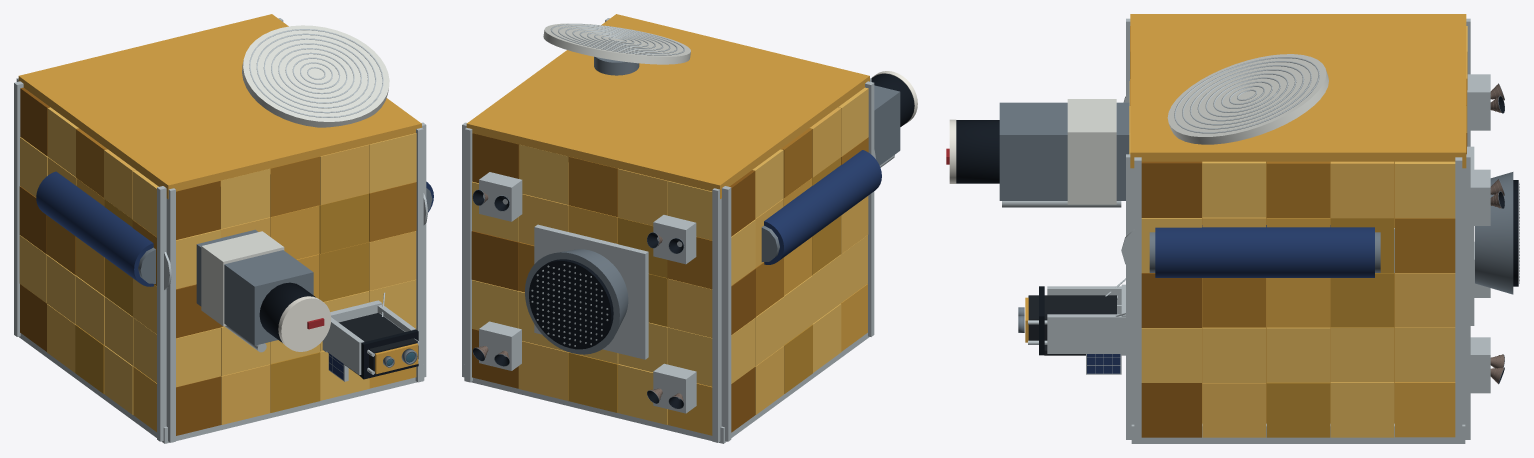
The model's file is dart_impact_probe.glb.
The picture shows the model from 3 angles, left to right: view 1: azimuth 30°, elevation 25°; view 2: azimuth 150°, elevation 25°; view 3: azimuth 270°, elevation 25°; orthographic projection. The views are drawn at different scales.
Visible parts, largest first — view 1: dart_busmesh_Gold_thermal_insulation, dart_busblanket_01mesh_Foil_facet_4, dart_busblanket_04mesh_Foil_facet_4, dart_rlsaazimuthelevationmesh_Pale_thermal_blanket, dart_busblanket_01mesh_Foil_facet_6, dart_busblanket_01mesh_Foil_facet_5, dart_busblanket_01mesh_Foil_facet_1, dart_rosa_ldeploymentblanketmesh_Indigo_solar_cells, dart_dracomesh_Machined_steel, dart_busblanket_01mesh_Foil_facet_2, dart_busblanket_04mesh_Foil_facet_6, dart_busblanket_01mesh_Satin_aluminum (+17 smaller); view 2: dart_busmesh_Gold_thermal_insulation, dart_busblanket_03mesh_Foil_facet_4, dart_busblanket_04mesh_Foil_facet_4, dart_busblanket_03mesh_Foil_facet_6, dart_propulsionnext_cion_gridmesh_Shadowed_interior, dart_rosa_ldeploymentblanketmesh_Indigo_solar_cells, dart_busblanket_03mesh_Foil_facet_1, dart_propulsionmesh_Satin_aluminum, dart_busblanket_03mesh_Foil_facet_5, dart_busblanket_04mesh_Foil_facet_6, dart_busblanket_03mesh_Satin_aluminum, dart_busblanket_03mesh_Foil_facet_2 (+20 smaller); view 3: dart_busmesh_Gold_thermal_insulation, dart_busblanket_02mesh_Foil_facet_4, dart_busblanket_02mesh_Foil_facet_6, dart_rosa_rdeploymentblanketmesh_Indigo_solar_cells, dart_busblanket_02mesh_Foil_facet_2, dart_busblanket_02mesh_Foil_facet_1, dart_rlsaazimuthelevationmesh_Pale_thermal_blanket, dart_busblanket_02mesh_Foil_facet_5, dart_dracomesh_Machined_steel, dart_busblanket_02mesh_Foil_facet_3, dart_dracomesh_Pale_thermal_blanket, dart_busblanket_02mesh_Satin_aluminum (+15 smaller).
Boxes of the visible parts, <box> form: dart_busmesh_Gold_thermal_insulation: <box>18,14,421,199</box>; dart_busblanket_01mesh_Foil_facet_4: <box>176,133,416,400</box>; dart_busblanket_04mesh_Foil_facet_4: <box>19,107,158,414</box>; dart_rlsaazimuthelevationmesh_Pale_thermal_blanket: <box>242,25,389,127</box>; dart_busblanket_01mesh_Foil_facet_6: <box>220,144,416,424</box>; dart_busblanket_01mesh_Foil_facet_5: <box>270,193,369,412</box>; dart_busblanket_01mesh_Foil_facet_1: <box>176,181,220,435</box>; dart_rosa_ldeploymentblanketmesh_Indigo_solar_cells: <box>36,171,153,286</box>; dart_dracomesh_Machined_steel: <box>196,229,313,345</box>; dart_busblanket_01mesh_Foil_facet_2: <box>221,156,416,326</box>; dart_busblanket_04mesh_Foil_facet_6: <box>47,149,156,372</box>; dart_busblanket_01mesh_Satin_aluminum: <box>166,128,423,442</box>; dart_busmesh_Gold_thermal_insulation: <box>466,14,869,198</box>; dart_busblanket_03mesh_Foil_facet_4: <box>472,144,712,424</box>; dart_busblanket_04mesh_Foil_facet_4: <box>731,87,868,383</box>; dart_busblanket_03mesh_Foil_facet_6: <box>518,168,712,400</box>; dart_propulsionnext_cion_gridmesh_Shadowed_interior: <box>529,259,613,349</box>; dart_rosa_ldeploymentblanketmesh_Indigo_solar_cells: <box>764,150,881,264</box>; dart_busblanket_03mesh_Foil_facet_1: <box>471,133,519,388</box>; dart_propulsionmesh_Satin_aluminum: <box>534,224,648,359</box>; dart_busblanket_03mesh_Foil_facet_5: <box>568,217,667,412</box>; dart_busblanket_04mesh_Foil_facet_6: <box>755,107,868,414</box>; dart_busblanket_03mesh_Satin_aluminum: <box>464,128,721,442</box>; dart_busblanket_03mesh_Foil_facet_2: <box>519,156,712,292</box>; dart_busmesh_Gold_thermal_insulation: <box>1130,14,1466,423</box>; dart_busblanket_02mesh_Foil_facet_4: <box>1141,161,1455,437</box>; dart_busblanket_02mesh_Foil_facet_6: <box>1202,161,1455,437</box>; dart_rosa_rdeploymentblanketmesh_Indigo_solar_cells: <box>1155,225,1374,277</box>; dart_busblanket_02mesh_Foil_facet_2: <box>1202,161,1455,327</box>; dart_busblanket_02mesh_Foil_facet_1: <box>1141,161,1201,437</box>; dart_rlsaazimuthelevationmesh_Pale_thermal_blanket: <box>1167,54,1328,144</box>; dart_busblanket_02mesh_Foil_facet_5: <box>1266,218,1394,437</box>; dart_dracomesh_Machined_steel: <box>999,102,1129,200</box>; dart_busblanket_02mesh_Foil_facet_3: <box>1266,218,1455,437</box>; dart_dracomesh_Pale_thermal_blanket: <box>1067,99,1116,204</box>; dart_busblanket_02mesh_Satin_aluminum: <box>1134,157,1462,443</box>.
Bounding box in the file's own units: 1.51 × 1.49 × 2.23.
